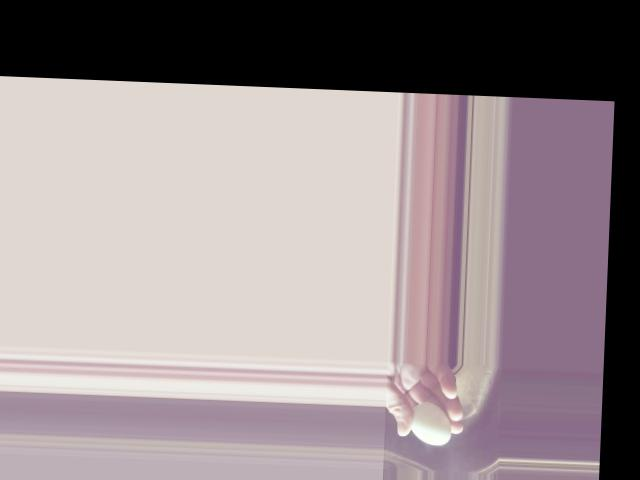egg: (409, 402, 451, 445)
